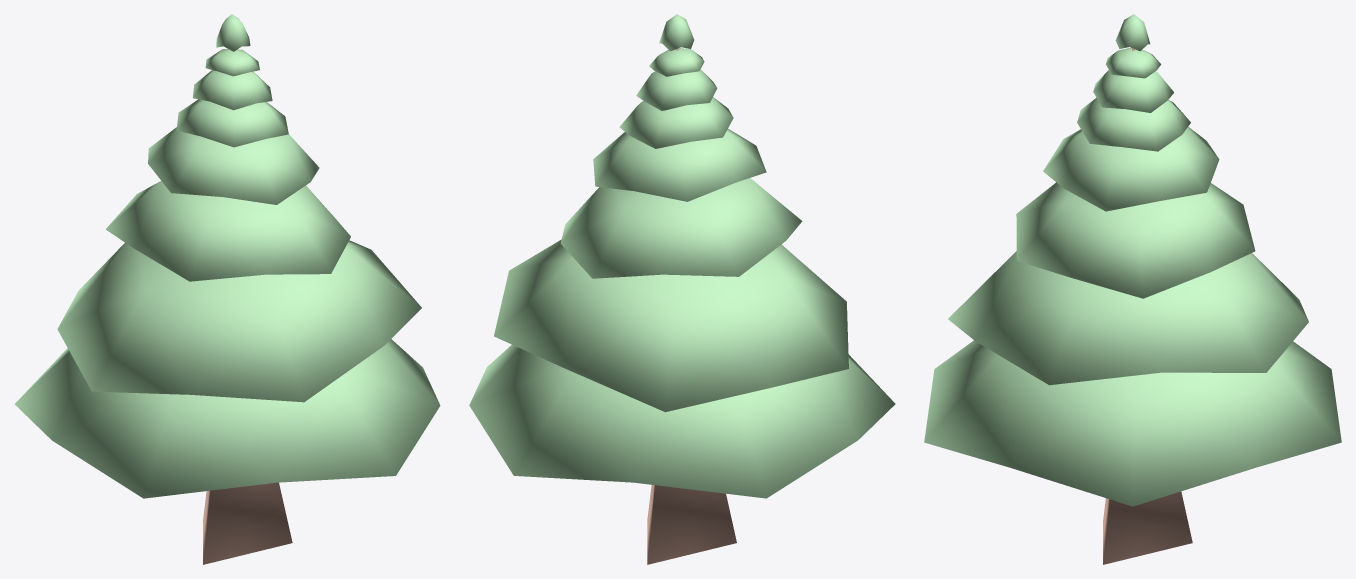
The model's file is PineTree.fbx.
3 views of the same model, side by side, from view 1: azimuth 30°, elevation 25°; view 2: azimuth 150°, elevation 25°; view 3: azimuth 270°, elevation 25° (orthographic).
Parts seen in each view (by area): view 1: polySurface3, polySurface2, polySurface4, polySurface5, polySurface9, polySurface6, polySurface7, polySurface8, polySurface1; view 2: polySurface3, polySurface2, polySurface4, polySurface5, polySurface9, polySurface6, polySurface7, polySurface8, polySurface1; view 3: polySurface2, polySurface3, polySurface4, polySurface5, polySurface9, polySurface6, polySurface7, polySurface8, polySurface1.
Boxes of the visible parts, <box> form: polySurface3: <box>57,240,421,402</box>; polySurface2: <box>14,339,440,498</box>; polySurface4: <box>105,181,350,281</box>; polySurface5: <box>148,127,319,204</box>; polySurface9: <box>203,51,292,564</box>; polySurface6: <box>176,99,288,147</box>; polySurface7: <box>192,70,272,110</box>; polySurface8: <box>205,49,259,76</box>; polySurface1: <box>216,14,250,51</box>; polySurface3: <box>494,239,848,412</box>; polySurface2: <box>469,345,895,498</box>; polySurface4: <box>560,178,802,278</box>; polySurface5: <box>593,129,766,201</box>; polySurface9: <box>647,48,736,564</box>; polySurface6: <box>619,97,733,148</box>; polySurface7: <box>636,69,717,110</box>; polySurface8: <box>649,48,704,76</box>; polySurface1: <box>659,14,694,51</box>; polySurface2: <box>924,340,1341,506</box>; polySurface3: <box>948,251,1308,385</box>; polySurface4: <box>1016,182,1255,298</box>; polySurface5: <box>1043,126,1219,211</box>; polySurface9: <box>1103,48,1192,564</box>; polySurface6: <box>1077,98,1190,151</box>; polySurface7: <box>1093,70,1173,112</box>; polySurface8: <box>1106,47,1161,78</box>; polySurface1: <box>1115,14,1150,51</box>.
Bounding box in the file's own units: 9.41 × 12.82 × 9.18.
